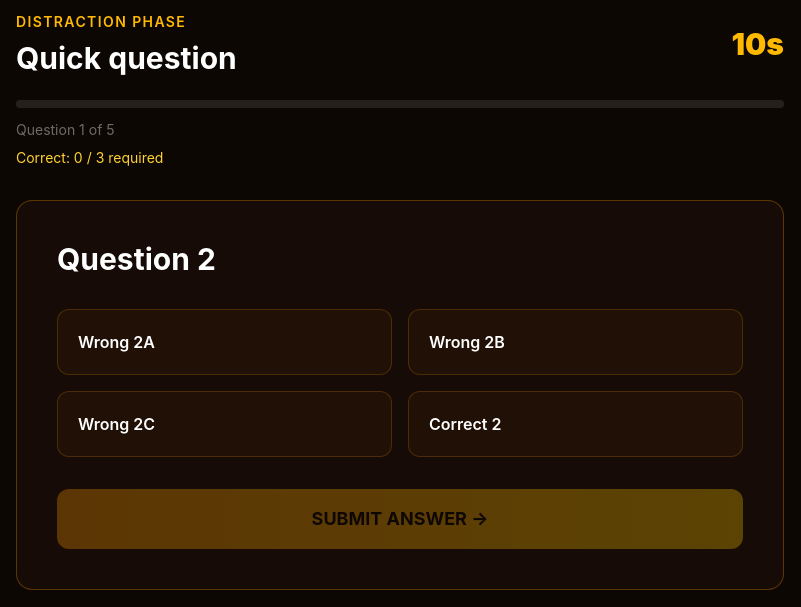
Test case: DistractionPhase component tests › allows the user to select an answer
The image size is (801, 607).
Expected: the button "SUBMIT ANSWER →" is disabled, [57,489,743,549]
Click the button "Correct 2" at (465, 424), box [408,391,743,457]
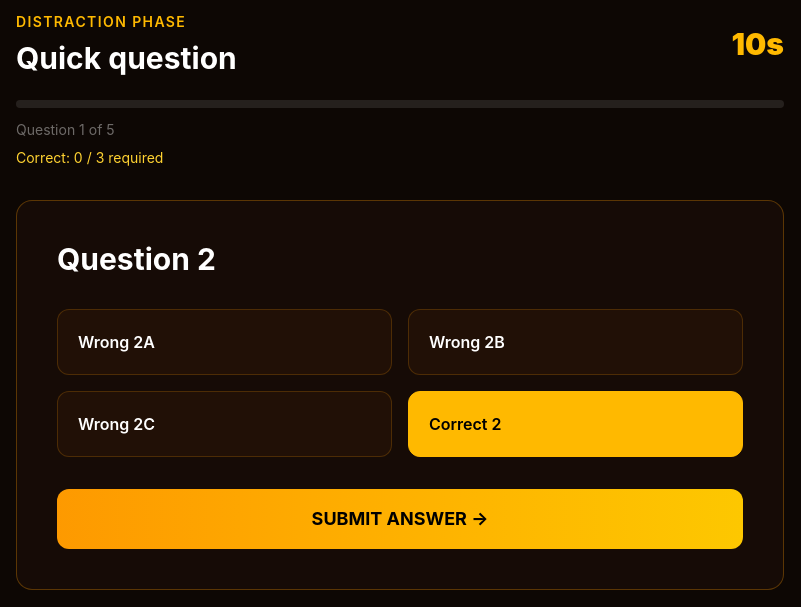
Now the button "SUBMIT ANSWER →" is enabled, box [57,489,743,549]
